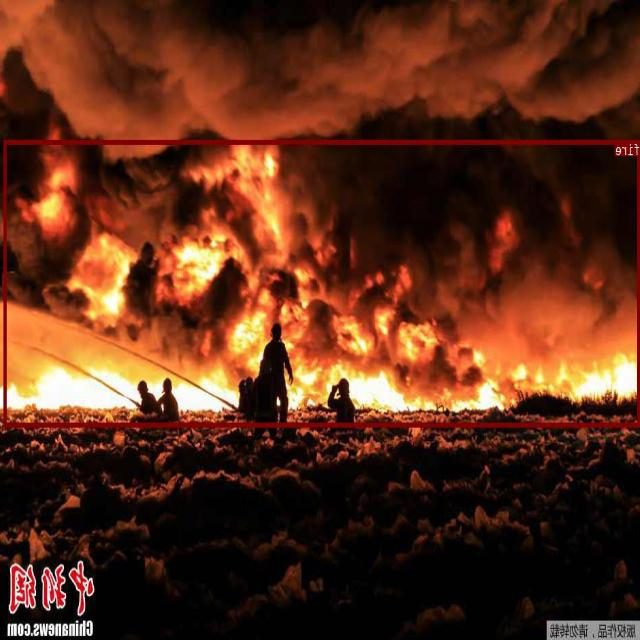fire: (4, 139, 640, 426)
